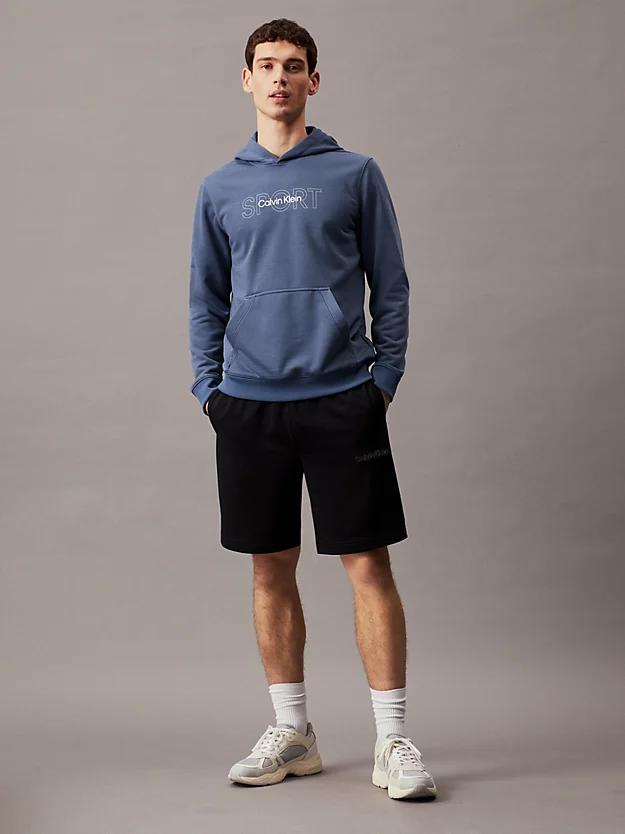Shorts: (206, 386, 413, 560)
sweater: (184, 125, 413, 413)
